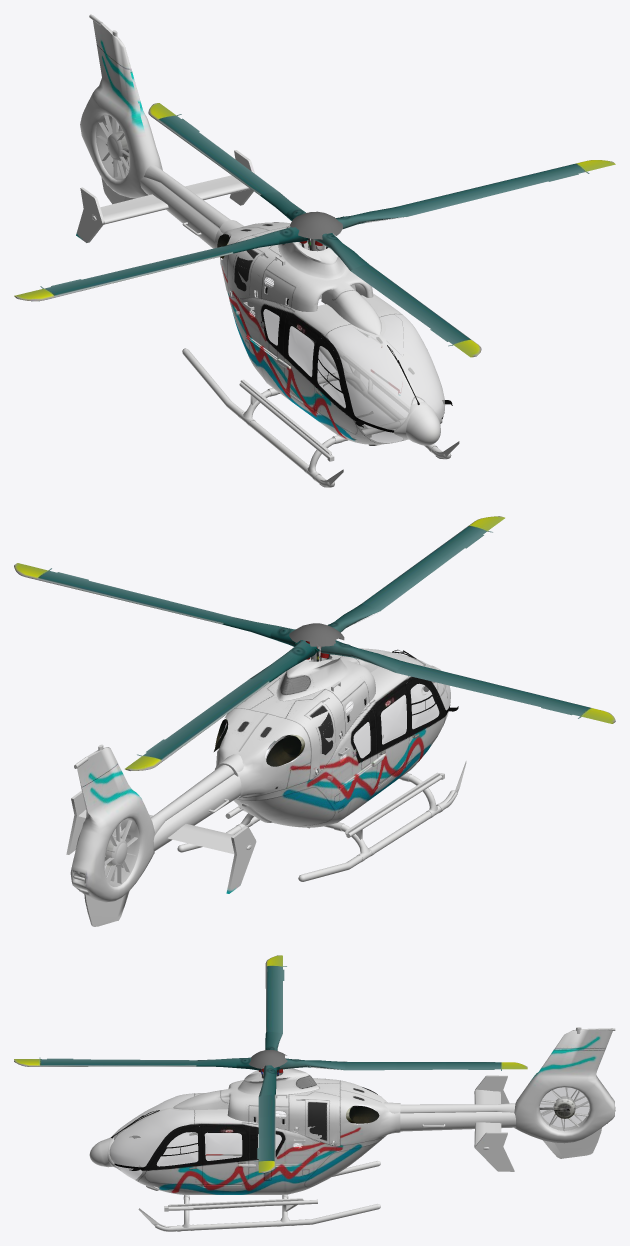
3 renders of one model, top to bottom at view 1: azimuth 30°, elevation 25°; view 2: azimuth 150°, elevation 25°; view 3: azimuth 270°, elevation 25°, orthographic. The views are drawn at different scales.
Parts seen in each view (by area): view 1: fuselage, windscreen, windscreen_tri, longskid_floats, IBF, backdoor.R, frontdoor.R, rotor_disc_T, BigRadom, blade2d, blade4d, blade1d (+15 smaller); view 2: fuselage, IBF, longskid_floats, reardoor.R, backdoor.R, rotor_disc_T, frontdoor.R, blade4d, blade1d, blade2d, blade3d, exhaust (+19 smaller); view 3: fuselage, windscreen, windscreen_tri, IBF, longskid_floats, backdoor.L, frontdoor.L, rotor_disc_T, backdoorglas.L, frontdoorglas.L, reardoor.L, blade3d (+13 smaller).
Part boxes in pixels (bbox=[...]): fuselage: bbox=[76, 14, 452, 444]; windscreen: bbox=[327, 314, 444, 430]; windscreen_tri: bbox=[328, 314, 444, 429]; longskid_floats: bbox=[182, 339, 451, 487]; IBF: bbox=[227, 226, 287, 298]; backdoor.R: bbox=[277, 318, 318, 414]; frontdoor.R: bbox=[314, 336, 357, 433]; rotor_disc_T: bbox=[96, 114, 129, 180]; BigRadom: bbox=[394, 401, 442, 445]; blade2d: bbox=[14, 274, 118, 301]; blade4d: bbox=[512, 160, 615, 187]; blade1d: bbox=[148, 103, 212, 147]; fuselage: bbox=[66, 652, 458, 926]; IBF: bbox=[235, 678, 345, 779]; longskid_floats: bbox=[177, 757, 457, 881]; reardoor.R: bbox=[238, 787, 335, 826]; backdoor.R: bbox=[372, 685, 408, 782]; rotor_disc_T: bbox=[104, 818, 139, 886]; frontdoor.R: bbox=[405, 678, 444, 762]; blade4d: bbox=[14, 563, 114, 595]; blade1d: bbox=[125, 728, 200, 770]; blade2d: bbox=[515, 692, 615, 723]; blade3d: bbox=[430, 516, 504, 559]; exhaust: bbox=[214, 718, 304, 766]; fuselage: bbox=[114, 1027, 615, 1194]; windscreen: bbox=[109, 1093, 193, 1167]; windscreen_tri: bbox=[110, 1093, 193, 1166]; IBF: bbox=[289, 1078, 340, 1145]; longskid_floats: bbox=[155, 1161, 380, 1231]; backdoor.L: bbox=[202, 1126, 255, 1187]; frontdoor.L: bbox=[145, 1126, 202, 1184]; rotor_disc_T: bbox=[539, 1087, 589, 1130]; backdoorglas.L: bbox=[204, 1132, 242, 1160]; frontdoorglas.L: bbox=[157, 1132, 198, 1166]; reardoor.L: bbox=[304, 1140, 380, 1187]; blade3d: bbox=[14, 1057, 95, 1066].
Size of the model in its own units: 10.1 by 3.98 by 11.84.
9 materials, 3 textured.
